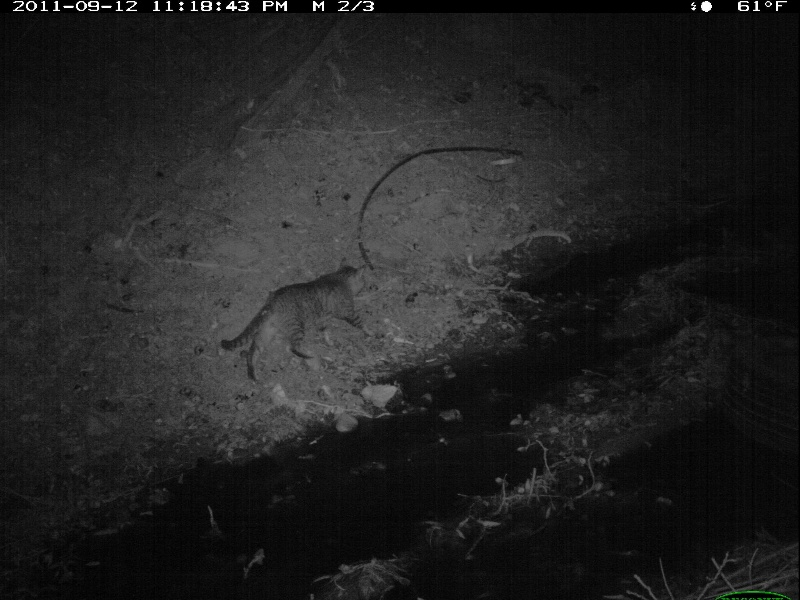cat: (224, 258, 372, 381)
